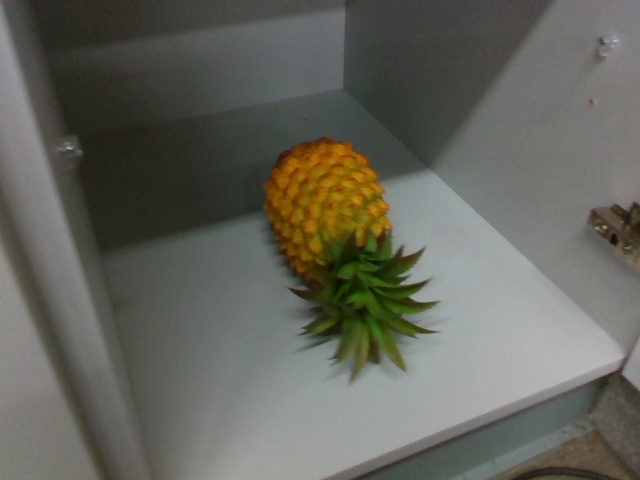pineapple: (257, 139, 444, 382)
